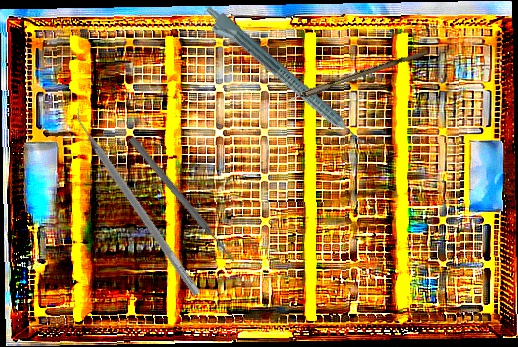Handpiece: (196, 2, 369, 156)
Pusher: (126, 135, 239, 265)
Spatula Surgical: (66, 105, 209, 297)
Surgical Spoon: (256, 46, 429, 116)
